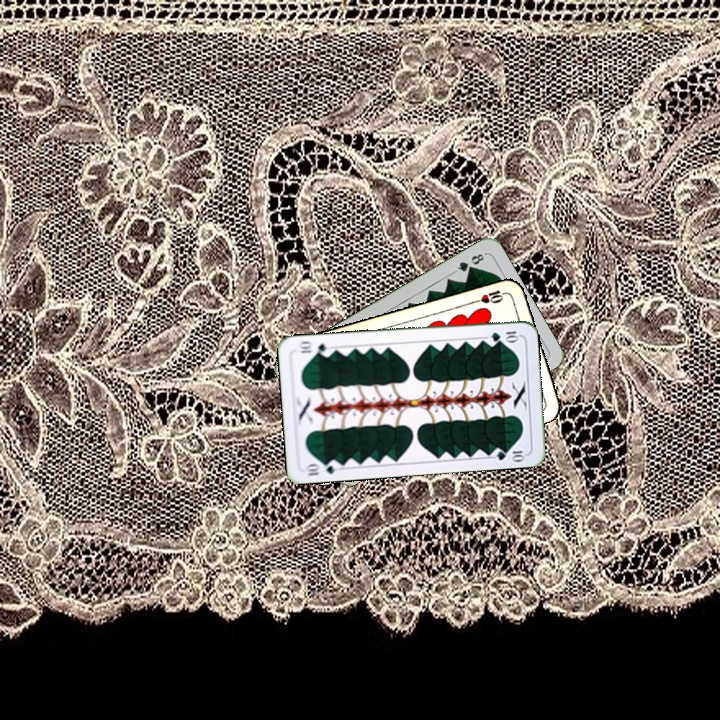G10: (301, 457, 342, 478), (487, 327, 521, 344)
G8: (451, 249, 488, 275)
H10: (470, 286, 510, 306)
